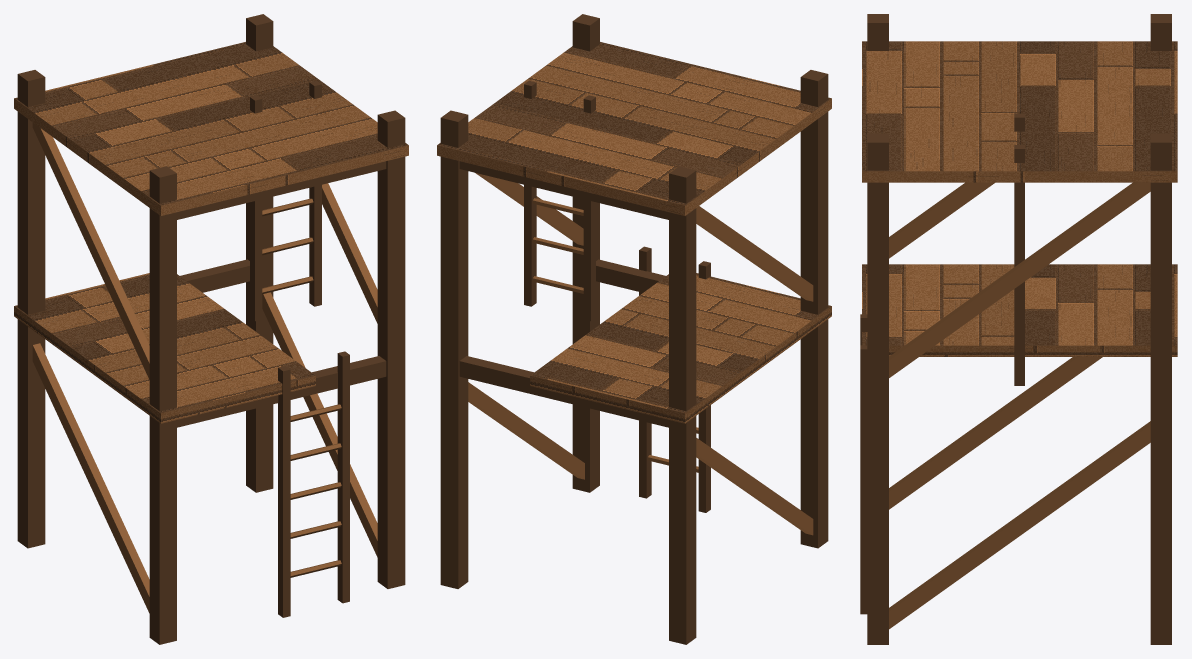
Rendered from mine_scaffold_tall.glb.
The picture shows the model from 3 angles, left to right: view 1: azimuth 30°, elevation 25°; view 2: azimuth 150°, elevation 25°; view 3: azimuth 270°, elevation 25°; orthographic projection. The views are drawn at different scales.
Visible parts, largest first — view 1: mine_scaffold_tall; view 2: mine_scaffold_tall; view 3: mine_scaffold_tall.
Boxes of the visible parts, left/top/right/bottom form: mine_scaffold_tall: left=14, top=14, right=408, bottom=644; mine_scaffold_tall: left=437, top=14, right=831, bottom=644; mine_scaffold_tall: left=860, top=14, right=1177, bottom=644.
Size of what is drawn, in the model's own units: 2 by 3.6 by 2.06.
Materials: 3 (1 with a texture image).
